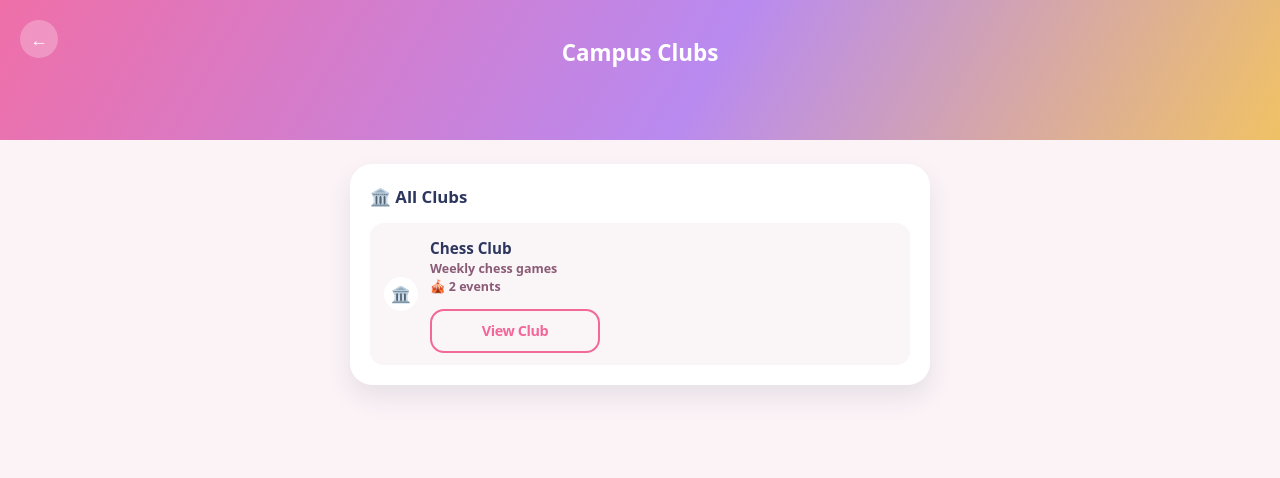
Test: ClubsPage (browse clubs) › the back button returns from a club to the clubs list
The width and height of the screenshot is (1280, 478).
What coordinates should you click on to do the following:
click the button "View Club"
I would click on:
 (515, 331)
Its box is x1=430 y1=309 x2=600 y2=353.
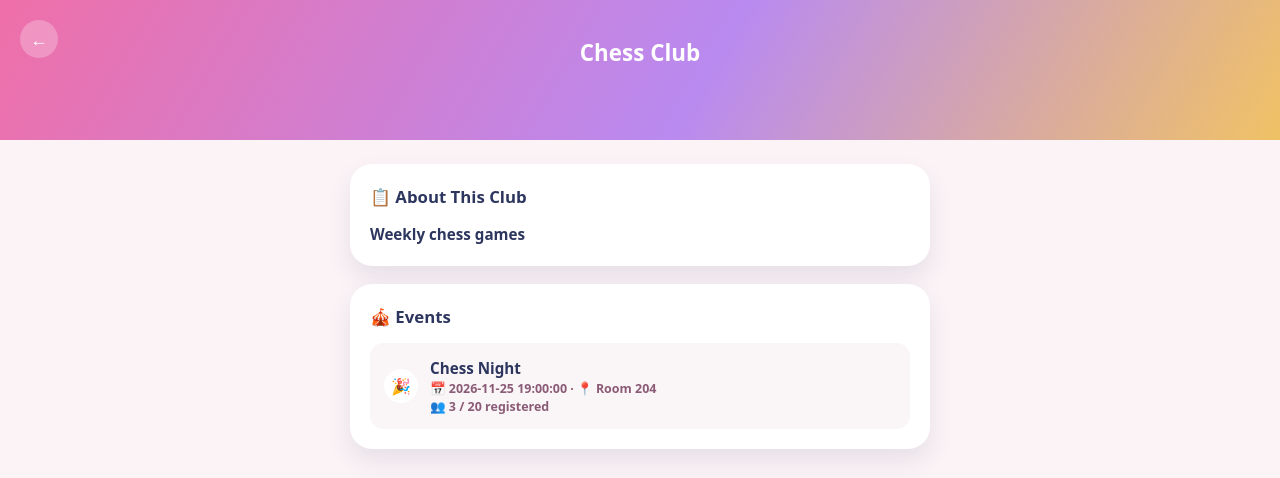
What coordinates should you click on to do the following:
click the button named "Back to clubs"
I would click on:
 (39, 39)
Its box is x1=20 y1=20 x2=58 y2=58.
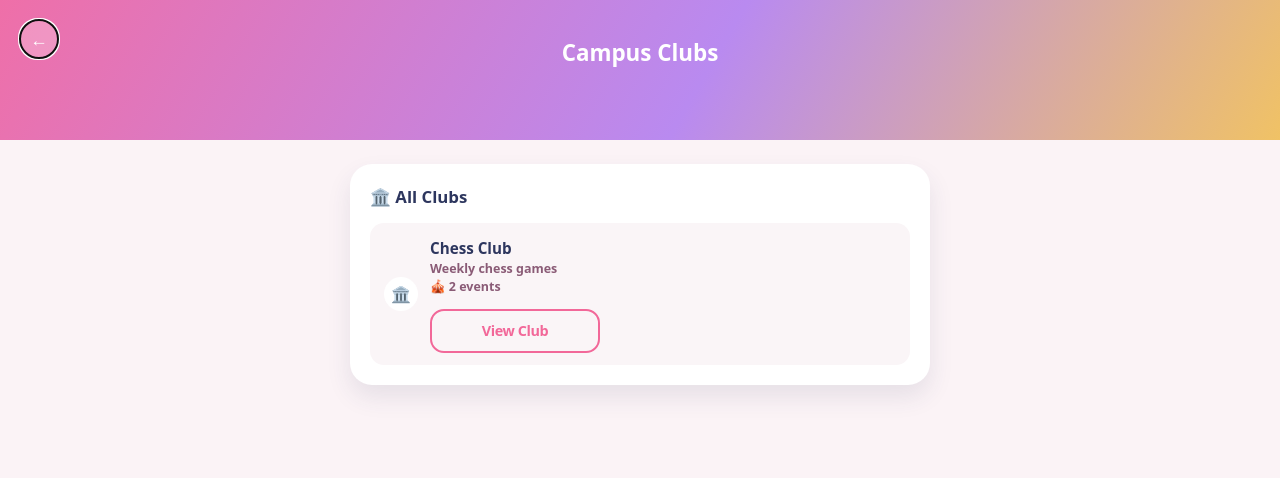
Expected: the heading "Campus Clubs" is shown, x1=562 y1=37 x2=718 y2=68
